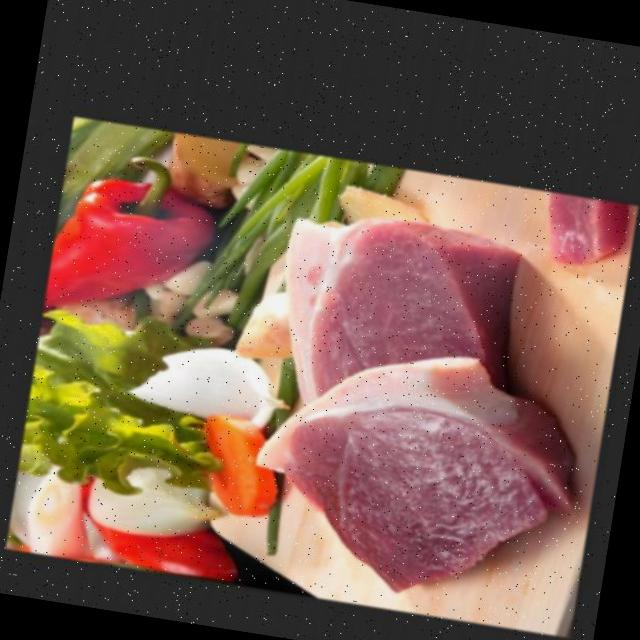pork: (241, 344, 584, 603), (258, 191, 525, 440), (538, 189, 627, 268)
